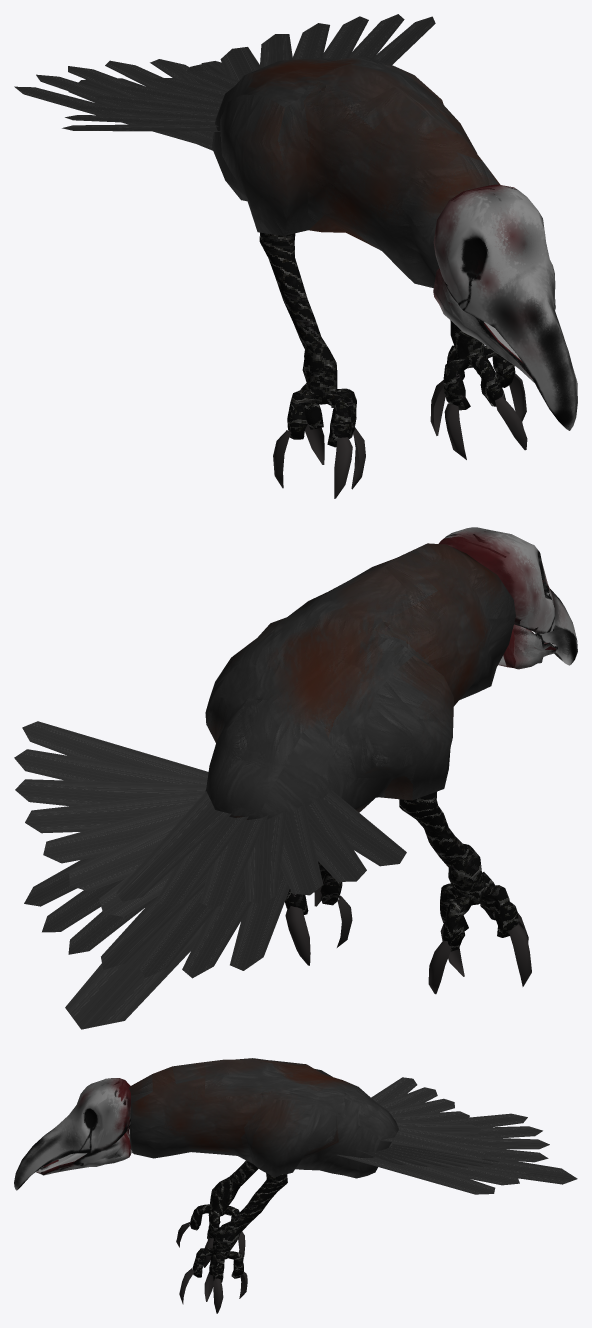
The model's file is vorona.glb.
The picture shows the model from 3 angles, top to bottom: view 1: azimuth 30°, elevation 25°; view 2: azimuth 150°, elevation 25°; view 3: azimuth 270°, elevation 25°; orthographic projection. The views are drawn at different scales.
Parts seen in each view (by area): view 1: Cube, skull, leg, Cube.006, Cube.007, Cube.003, jaw; view 2: Cube, Cube.007, Cube.006, Cube.003, leg, skull, Cube.004, jaw; view 3: Cube, Cube.003, leg, skull, Cube.006, Cube.007, jaw, Cube.004.
Boxes of the visible parts, left/top/right/bottom form: Cube: left=212, top=57, right=500, bottom=287; skull: left=433, top=184, right=577, bottom=430; leg: left=259, top=232, right=527, bottom=498; Cube.006: left=62, top=71, right=238, bottom=131; Cube.007: left=181, top=14, right=435, bottom=86; Cube.003: left=14, top=59, right=225, bottom=148; jaw: left=433, top=268, right=534, bottom=382; Cube: left=205, top=543, right=515, bottom=819; Cube.007: left=14, top=721, right=208, bottom=916; Cube.006: left=116, top=790, right=406, bottom=908; Cube.003: left=24, top=856, right=289, bottom=978; leg: left=285, top=791, right=531, bottom=994; skull: left=438, top=527, right=577, bottom=665; Cube.004: left=65, top=918, right=204, bottom=1029; jaw: left=498, top=624, right=557, bottom=669; Cube: left=129, top=1058, right=398, bottom=1178; Cube.003: left=337, top=1113, right=549, bottom=1194; leg: left=176, top=1160, right=287, bottom=1313; skull: left=14, top=1078, right=130, bottom=1190; Cube.006: left=371, top=1077, right=488, bottom=1159; Cube.007: left=355, top=1144, right=500, bottom=1167; jaw: left=36, top=1128, right=132, bottom=1175; Cube.004: left=490, top=1160, right=577, bottom=1184.
Bounding box in the file's own units: 0.7523 × 0.7524 × 1.71.
Materials: 2 (2 with a texture image).
